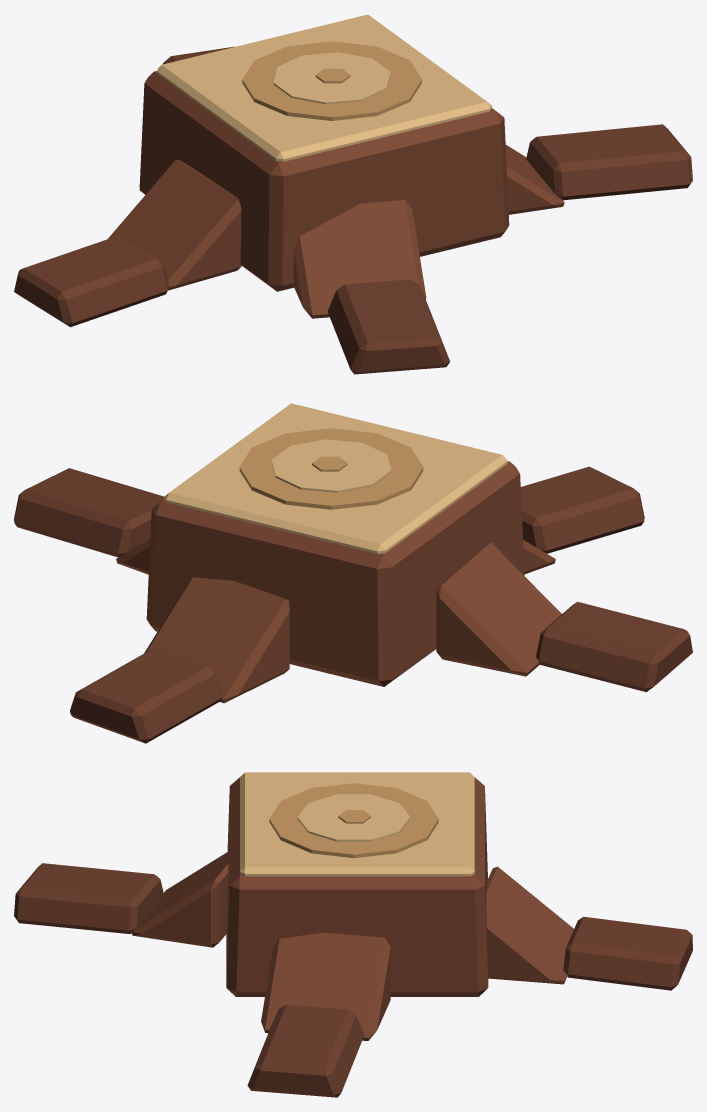
The model's file is stump.glb.
3 views of the same model, one above another, from view 1: azimuth 30°, elevation 25°; view 2: azimuth 150°, elevation 25°; view 3: azimuth 270°, elevation 25° (orthographic). The views are drawn at different scales.
Parts seen in each view (by area): view 1: Wood__7A4630, Wood__6A3C2A, WoodPlanks__DEB880, WoodPlanks__C49660; view 2: Wood__7A4630, Wood__6A3C2A, WoodPlanks__DEB880, WoodPlanks__C49660; view 3: Wood__7A4630, Wood__6A3C2A, WoodPlanks__DEB880, WoodPlanks__C49660.
Part boxes in pixels (x1=…): Wood__7A4630: x1=108, y1=71, x2=564, y2=318; Wood__6A3C2A: x1=14, y1=46, x2=692, y2=374; WoodPlanks__DEB880: x1=156, y1=14, x2=491, y2=161; WoodPlanks__C49660: x1=242, y1=41, x2=421, y2=120; Wood__7A4630: x1=116, y1=461, x2=561, y2=703; Wood__6A3C2A: x1=14, y1=466, x2=692, y2=743; WoodPlanks__DEB880: x1=164, y1=403, x2=507, y2=553; WoodPlanks__C49660: x1=239, y1=428, x2=423, y2=509; Wood__7A4630: x1=132, y1=777, x2=573, y2=1040; Wood__6A3C2A: x1=14, y1=863, x2=692, y2=1097; WoodPlanks__DEB880: x1=240, y1=772, x2=474, y2=876; WoodPlanks__C49660: x1=269, y1=783, x2=438, y2=858.
Size of the model in its own units: 10.56 by 2.31 by 10.35.
